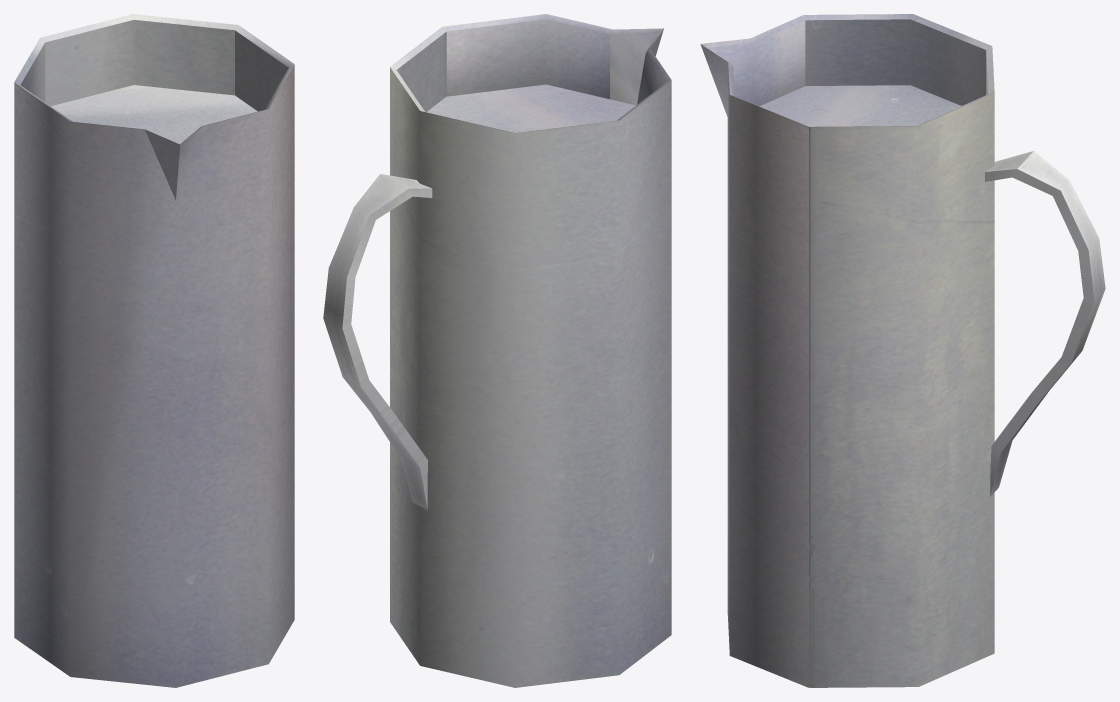
Rendered from waterJug.FBX.
The picture shows the model from 3 angles, left to right: view 1: azimuth 30°, elevation 25°; view 2: azimuth 150°, elevation 25°; view 3: azimuth 270°, elevation 25°; orthographic projection.
Visible parts, largest first — view 1: waterJug; view 2: waterJug; view 3: waterJug.
Part boxes in pixels (x1=…): waterJug: x1=14, y1=14, x2=294, y2=687; waterJug: x1=323, y1=14, x2=671, y2=687; waterJug: x1=700, y1=14, x2=1105, y2=687.
Size of the model in its own units: 10.79 by 25.02 by 16.38.
